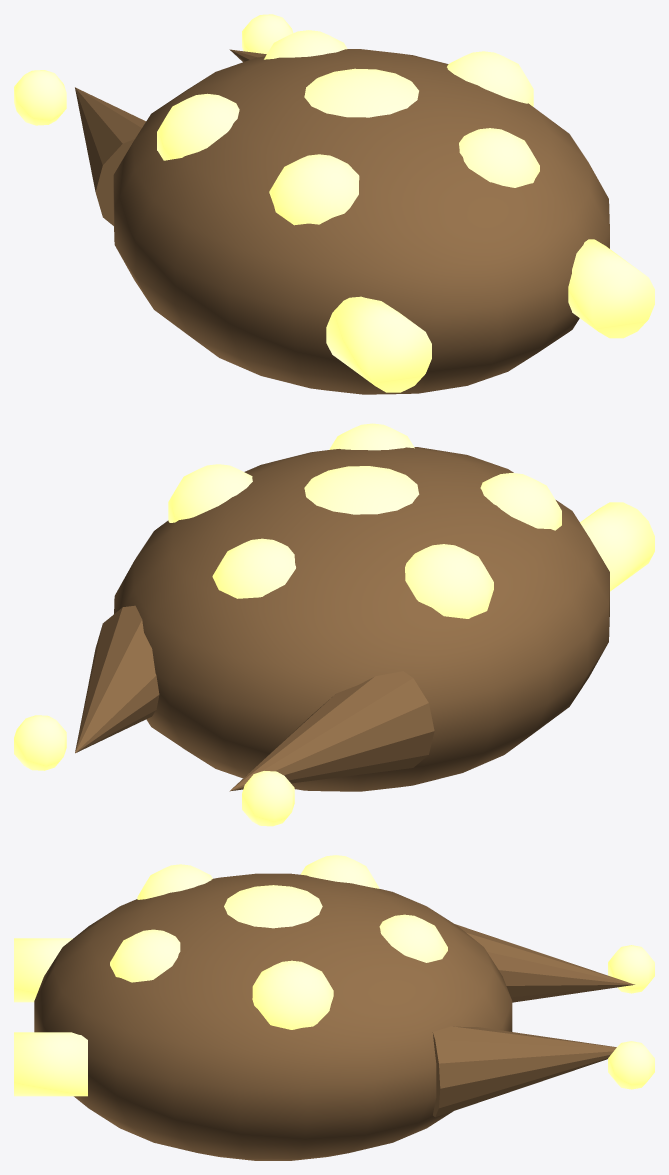
The model's file is brooder.glb.
3 renders of one model, top to bottom at view 1: azimuth 30°, elevation 25°; view 2: azimuth 150°, elevation 25°; view 3: azimuth 270°, elevation 25°, orthographic. The views are drawn at different scales.
Parts seen in each view (by area): view 1: sac, thruster, thruster.001, egg.003, queen_egg, mandible, egg.004, egg.002, egg.001, mandible_tip, egg, mandible_tip.001; view 2: sac, mandible, mandible.001, egg.004, queen_egg, thruster, egg, egg.003, egg.001, mandible_tip.001, mandible_tip, egg.002; view 3: sac, mandible.001, mandible, thruster.001, egg.001, queen_egg, egg.002, thruster, egg, mandible_tip.001, mandible_tip, egg.003 (+1 smaller).
Part boxes in pixels (<box>): sac: <box>113,49,609,394</box>; thruster: <box>326,296,431,392</box>; thruster.001: <box>568,239,654,338</box>; egg.003: <box>269,154,359,225</box>; queen_egg: <box>304,68,418,117</box>; mandible: <box>75,87,145,225</box>; egg.004: <box>157,93,239,160</box>; egg.002: <box>459,128,539,187</box>; egg.001: <box>447,51,533,106</box>; mandible_tip: <box>14,70,66,125</box>; egg: <box>264,30,347,59</box>; mandible_tip.001: <box>242,14,293,54</box>; sac: <box>114,447,609,791</box>; mandible: <box>229,671,434,791</box>; mandible.001: <box>75,605,159,753</box>; egg.004: <box>405,544,493,618</box>; queen_egg: <box>304,466,419,514</box>; thruster: <box>580,502,654,591</box>; egg: <box>212,538,295,598</box>; egg.003: <box>480,473,561,530</box>; egg.001: <box>168,464,252,522</box>; mandible_tip.001: <box>14,715,66,770</box>; mandible_tip: <box>242,771,294,826</box>; egg.002: <box>329,423,414,450</box>; sac: <box>34,873,512,1160</box>; mandible.001: <box>432,1026,616,1117</box>; mandible: <box>455,924,634,1002</box>; thruster.001: <box>14,1032,87,1096</box>; egg.001: <box>252,960,333,1029</box>; queen_egg: <box>224,885,322,928</box>; egg.002: <box>110,929,180,982</box>; thruster: <box>14,938,72,1002</box>; egg: <box>379,914,447,962</box>; mandible_tip.001: <box>608,1041,654,1089</box>; mandible_tip: <box>608,945,654,993</box>; egg.003: <box>137,864,212,899</box>.
Bounding box in the file's own units: 1.67 × 1.06 × 2.6.
